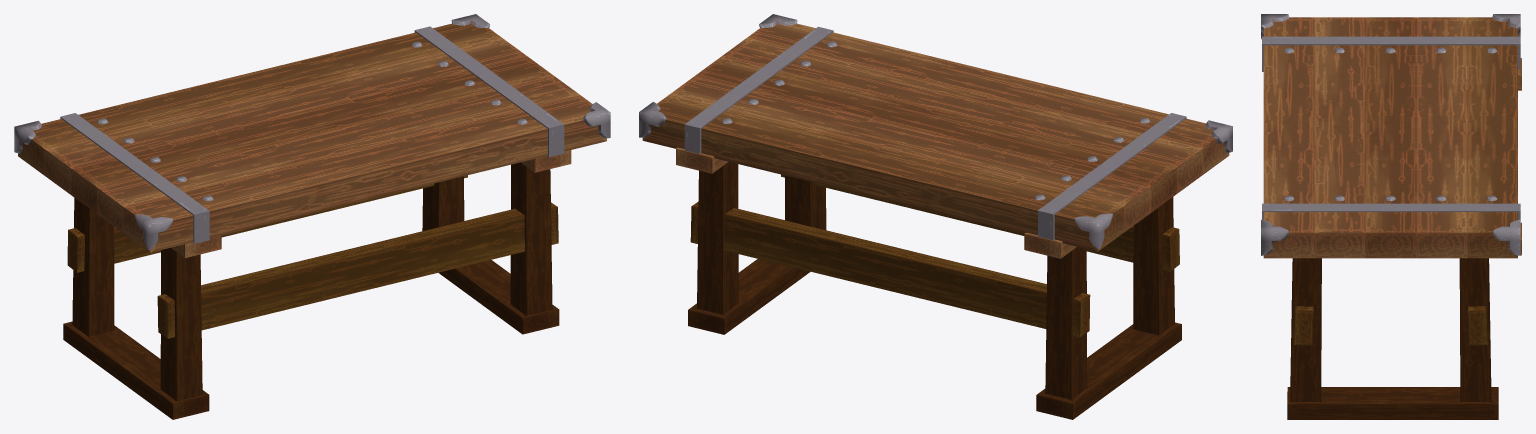
The model's file is workbench.gltf.
3 views of the same model, side by side, from view 1: azimuth 30°, elevation 25°; view 2: azimuth 150°, elevation 25°; view 3: azimuth 270°, elevation 25° (orthographic). The views are drawn at different scales.
Parts seen in each view (by area): view 1: Workbench; view 2: Workbench; view 3: Workbench.
Boxes of the visible parts, x1,y1,x2,y2 form: Workbench: [14, 14, 610, 419]; Workbench: [639, 14, 1232, 419]; Workbench: [1261, 14, 1521, 419].
Size of the model in its own units: 2.02 by 0.8946 by 1.02.
2 materials, 2 textured.
